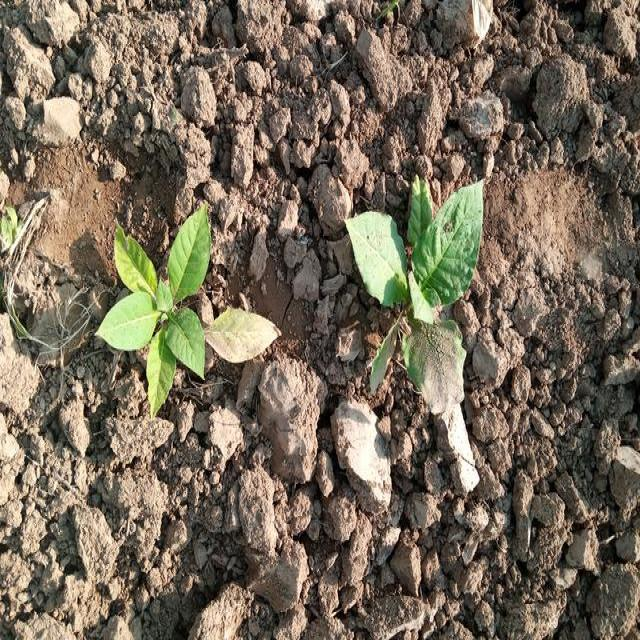crop: (349, 176, 488, 391), (101, 232, 275, 392)
